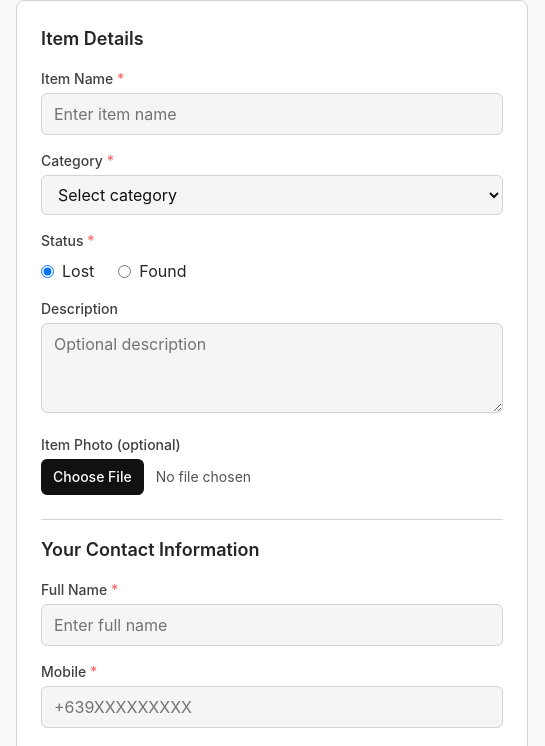
Test: LogItemForm › dismisses suggestion when dismiss is clicked
Click the radio button labelled "Found". click: (125, 271)
box: [118,264,131,278]
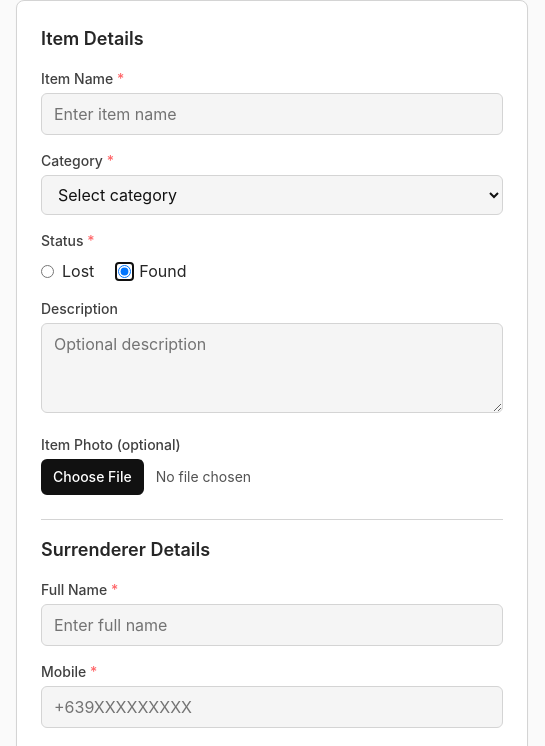
Type "Phone" into the field labelled "Item Name *". click: (272, 114)
box: [41,93,503,135]
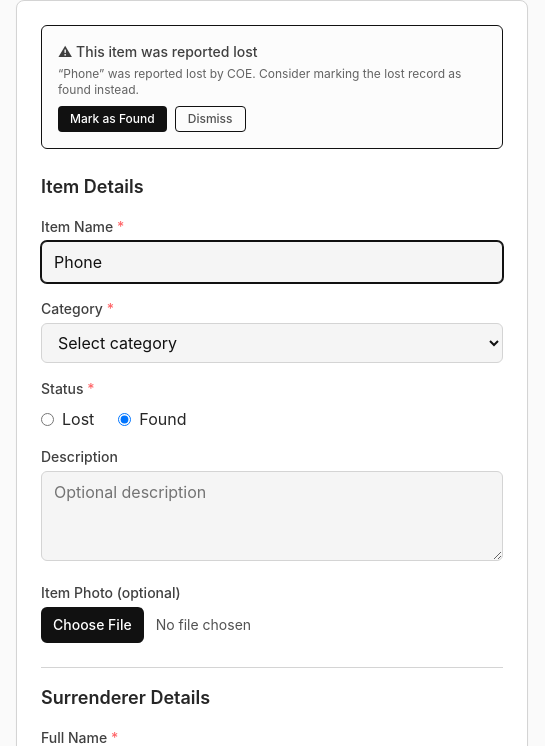
Expected: the message is shown, [41,25,503,149]
Note: Click dismiss
Click the button "Dismiss". click: (210, 119)
box: [175,106,246,132]
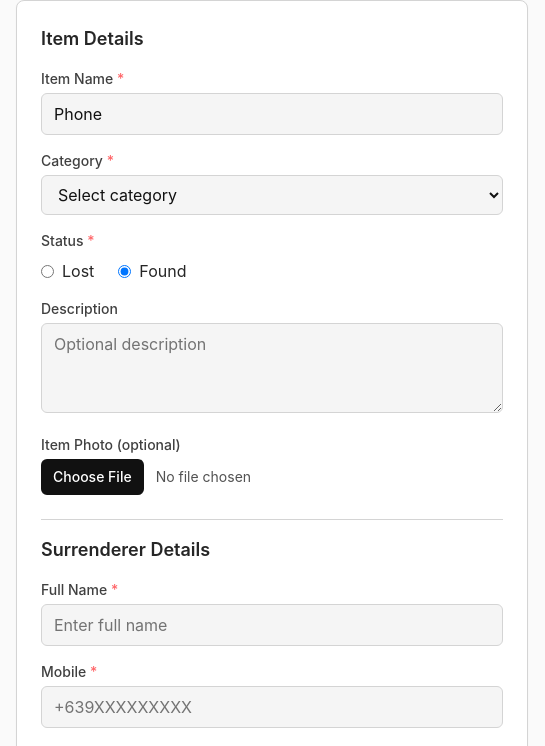
Expected: the message is gone
